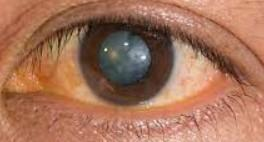eye: (77, 21, 175, 107)
